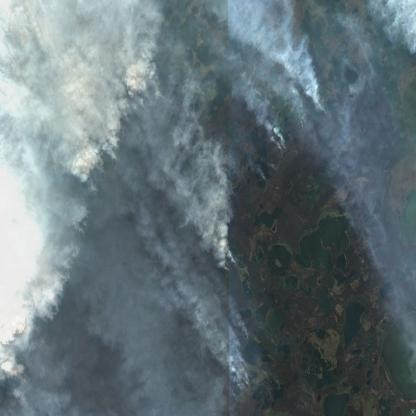fire: (0, 0, 176, 416), (261, 41, 336, 160), (216, 308, 255, 404), (194, 206, 244, 278)
